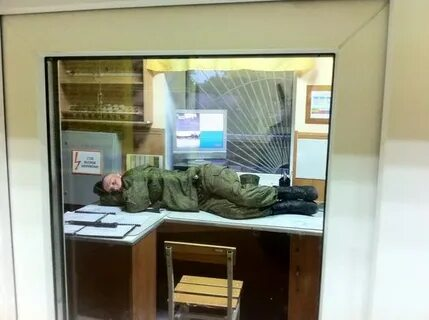sleep: (92, 162, 319, 220)
